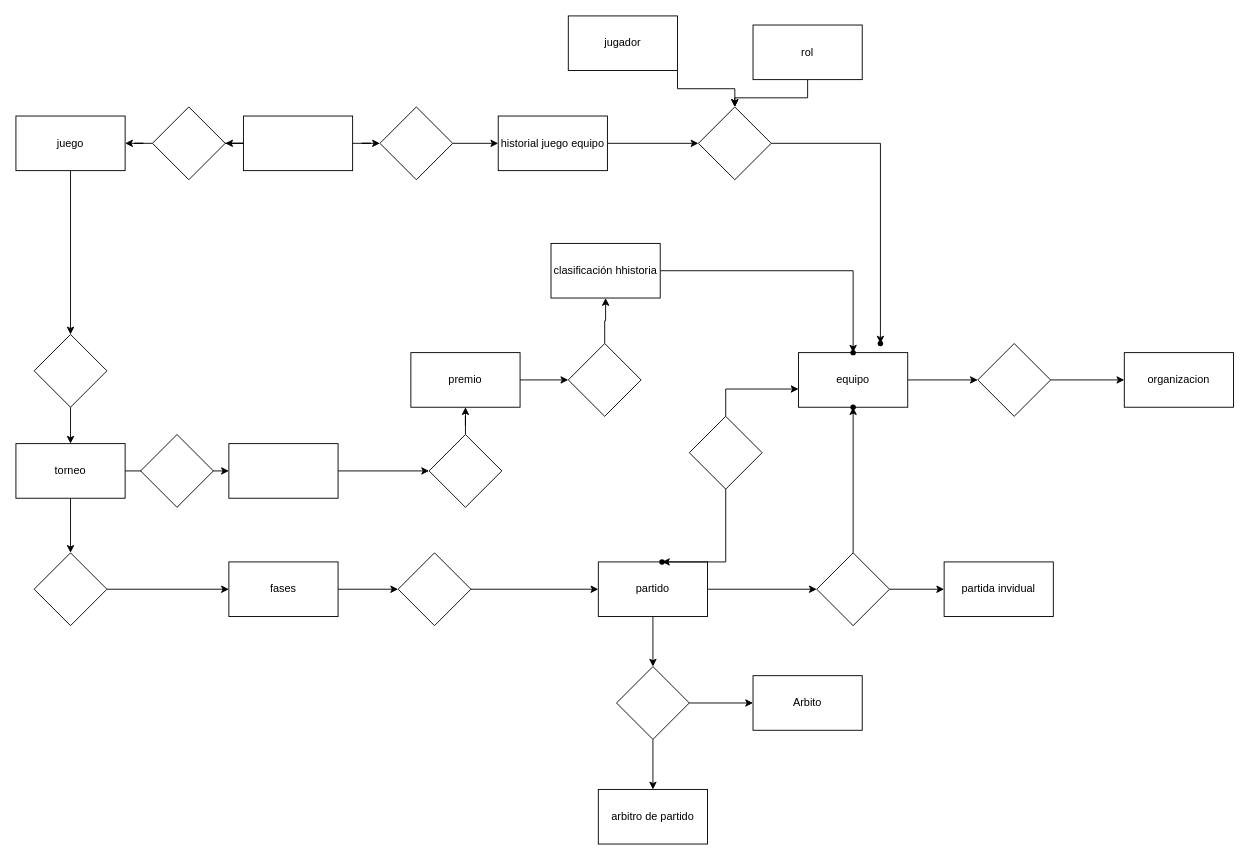
The diagram is 1249 pixels wide and 860 high, and some of its shapes have lost their labels. Each missing label, with the centre of its shape:
"ediciones" belongs at (283,470).
"Modalidad" belongs at (298,143).
